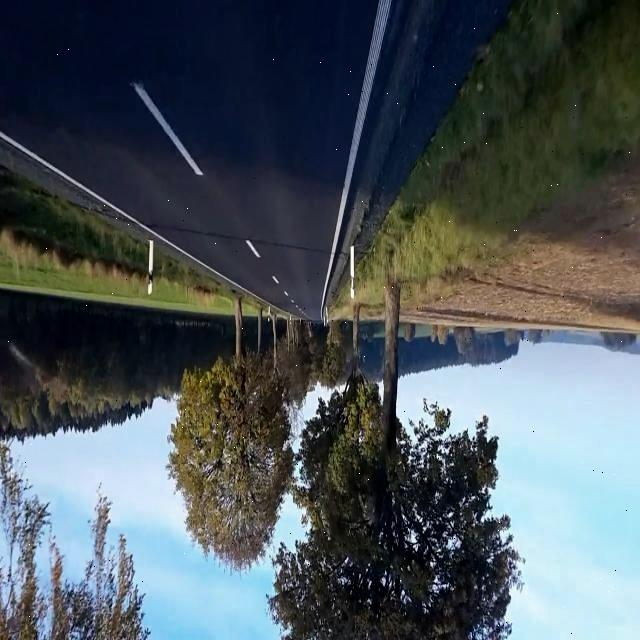lane: (0, 131, 272, 306), (322, 0, 392, 316), (131, 83, 202, 175)
road: (0, 1, 509, 320)
